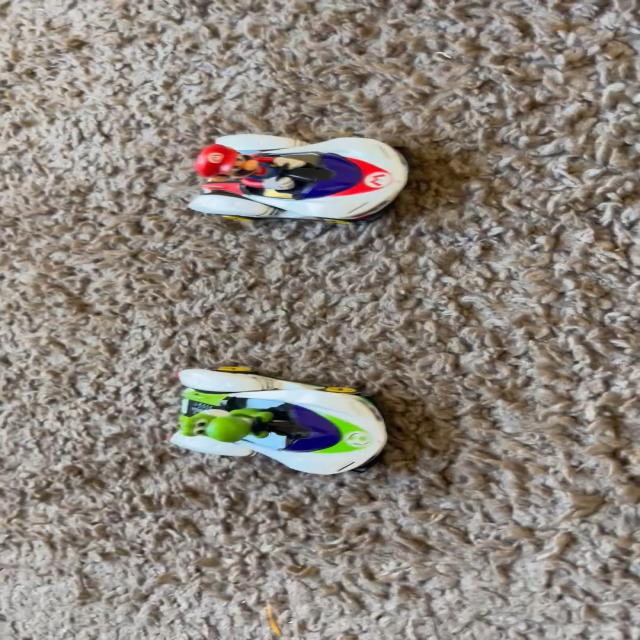mario: (176, 119, 424, 237)
yoshi: (164, 350, 408, 490)
